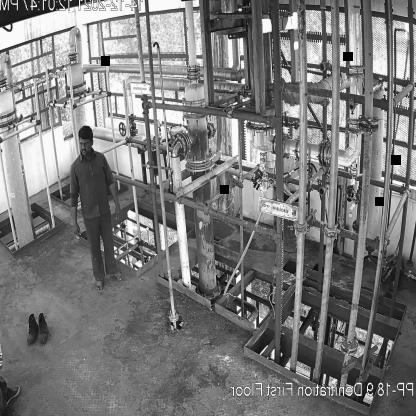no_shoes: (109, 271, 126, 281), (95, 279, 106, 293)
shoes: (34, 312, 50, 346), (25, 314, 38, 344)
